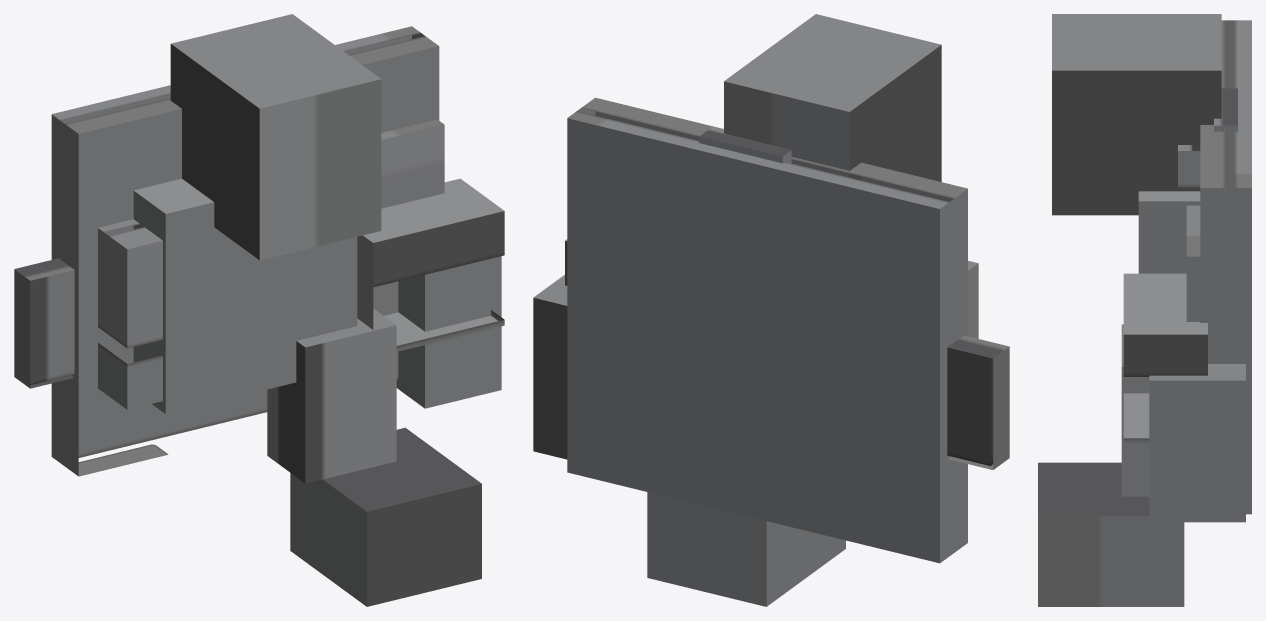
3 views of the same model, side by side, from view 1: azimuth 30°, elevation 25°; view 2: azimuth 150°, elevation 25°; view 3: azimuth 270°, elevation 25° (orthographic). The views are drawn at different scales.
Bounding box in the file's own units: 0.684 × 0.767 × 0.3016.
